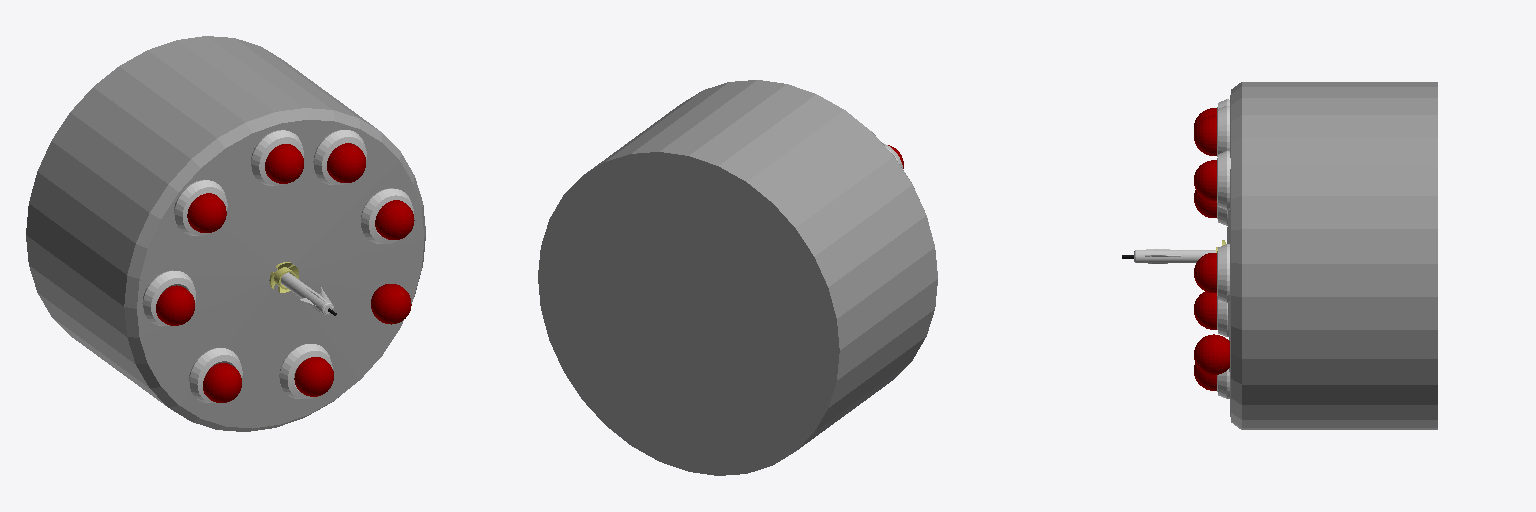
Rendered from cake_normals.obj.
3 renders of one model, left to right at view 1: azimuth 30°, elevation 25°; view 2: azimuth 150°, elevation 25°; view 3: azimuth 270°, elevation 25°, orthographic.
Parts seen in each view (by area): view 1: Mesh, Mesh.009_Mesh.010, Mesh.015_Mesh.016, Mesh.016_Mesh.017, Mesh.014_Mesh.015, Mesh.013_Mesh.014, Mesh.012_Mesh.013, Mesh.011_Mesh.012, Mesh.010_Mesh.011, Mesh.001_Mesh.002, Mesh.006_Mesh.007, Mesh.004_Mesh.005 (+5 smaller); view 2: Mesh; view 3: Mesh, Mesh.009_Mesh.010, Mesh.017_Mesh.018, Mesh.011_Mesh.012, Mesh.012_Mesh.013, Mesh.010_Mesh.011, Mesh.015_Mesh.016, Mesh.008_Mesh.009, Mesh.003_Mesh.004, Mesh.004_Mesh.005.
Boxes of the visible parts, x1,y1,x2,y2 form: Mesh: [26, 36, 425, 431]; Mesh.009_Mesh.010: [371, 284, 411, 324]; Mesh.015_Mesh.016: [203, 363, 241, 402]; Mesh.016_Mesh.017: [294, 357, 333, 396]; Mesh.014_Mesh.015: [156, 285, 194, 325]; Mesh.013_Mesh.014: [187, 193, 226, 232]; Mesh.012_Mesh.013: [265, 144, 303, 183]; Mesh.011_Mesh.012: [327, 143, 365, 182]; Mesh.010_Mesh.011: [375, 200, 414, 239]; Mesh.001_Mesh.002: [189, 348, 242, 402]; Mesh.006_Mesh.007: [142, 270, 195, 325]; Mesh.004_Mesh.005: [251, 130, 303, 185]; Mesh: [538, 80, 937, 475]; Mesh: [1227, 82, 1437, 429]; Mesh.009_Mesh.010: [1194, 334, 1229, 374]; Mesh.017_Mesh.018: [1134, 249, 1215, 263]; Mesh.011_Mesh.012: [1194, 160, 1216, 200]; Mesh.012_Mesh.013: [1194, 115, 1216, 155]; Mesh.010_Mesh.011: [1194, 253, 1216, 292]; Mesh.015_Mesh.016: [1194, 291, 1216, 329]; Mesh.008_Mesh.009: [1217, 151, 1230, 209]; Mesh.003_Mesh.004: [1217, 244, 1229, 302]; Mesh.004_Mesh.005: [1217, 105, 1229, 156].
Size of the model in its own units: 5.99 by 5.99 by 5.44.